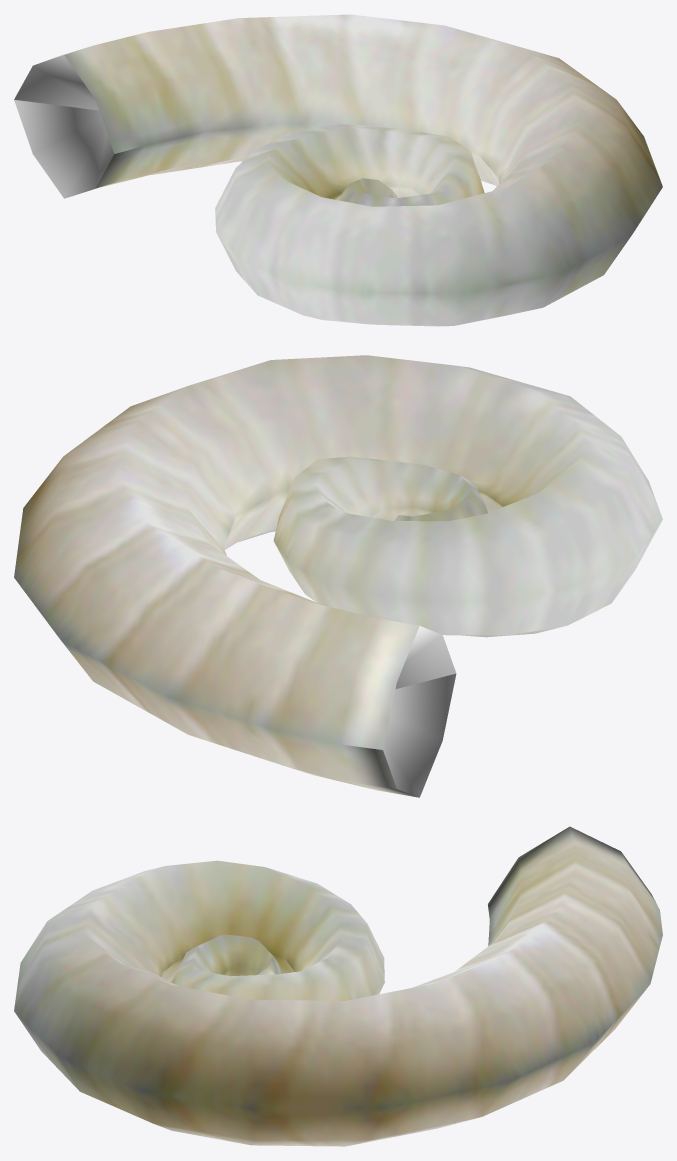
The model's file is SeaShell-06_LOD0_newsmall.glb.
3 renders of one model, top to bottom at view 1: azimuth 30°, elevation 25°; view 2: azimuth 150°, elevation 25°; view 3: azimuth 270°, elevation 25°, orthographic. The views are drawn at different scales.
Visible parts, largest first — view 1: SeaShell-06_high; view 2: SeaShell-06_high; view 3: SeaShell-06_high.
Boxes of the visible parts, <box> form: SeaShell-06_high: <box>14,14,662,326</box>; SeaShell-06_high: <box>14,355,662,797</box>; SeaShell-06_high: <box>14,826,662,1146</box>.
Bounding box in the file's own units: 0.0939 × 0.0296 × 0.1197.
Materials: 1 (1 with a texture image).
